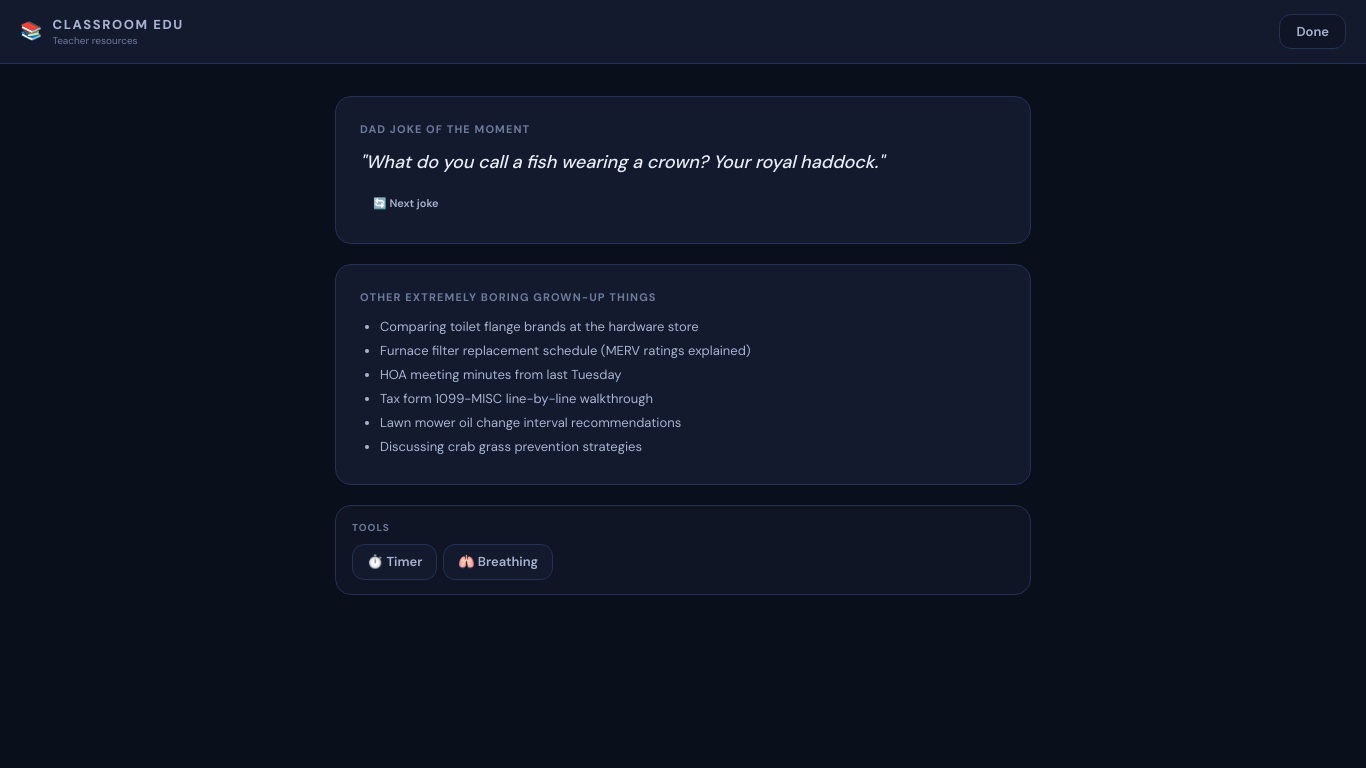
Scenario: StealthScreen › Done button opens PIN modal when PIN is set
Click the button "Done" at (1313, 32), box [1280,14,1346,49]
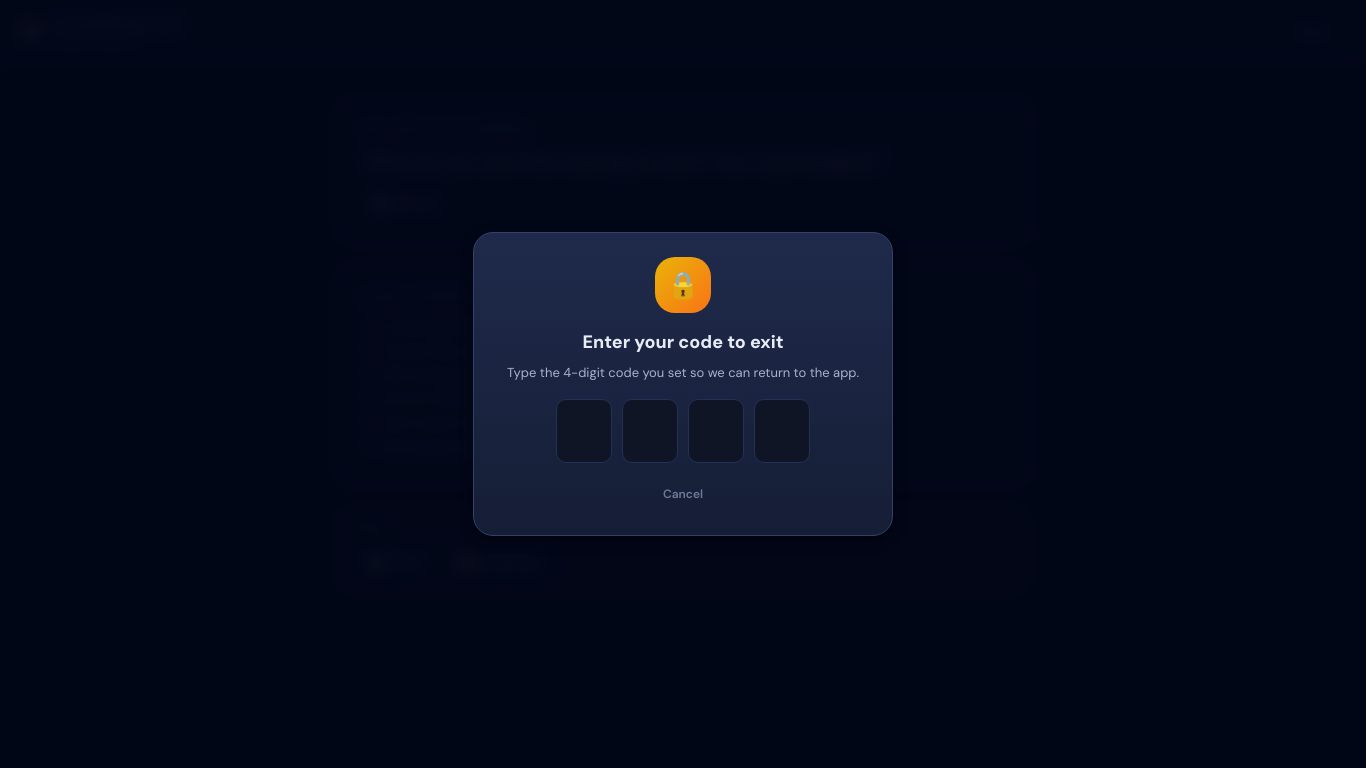
Expected: the field named "PIN digit 1" is shown, [556,399,612,463]
